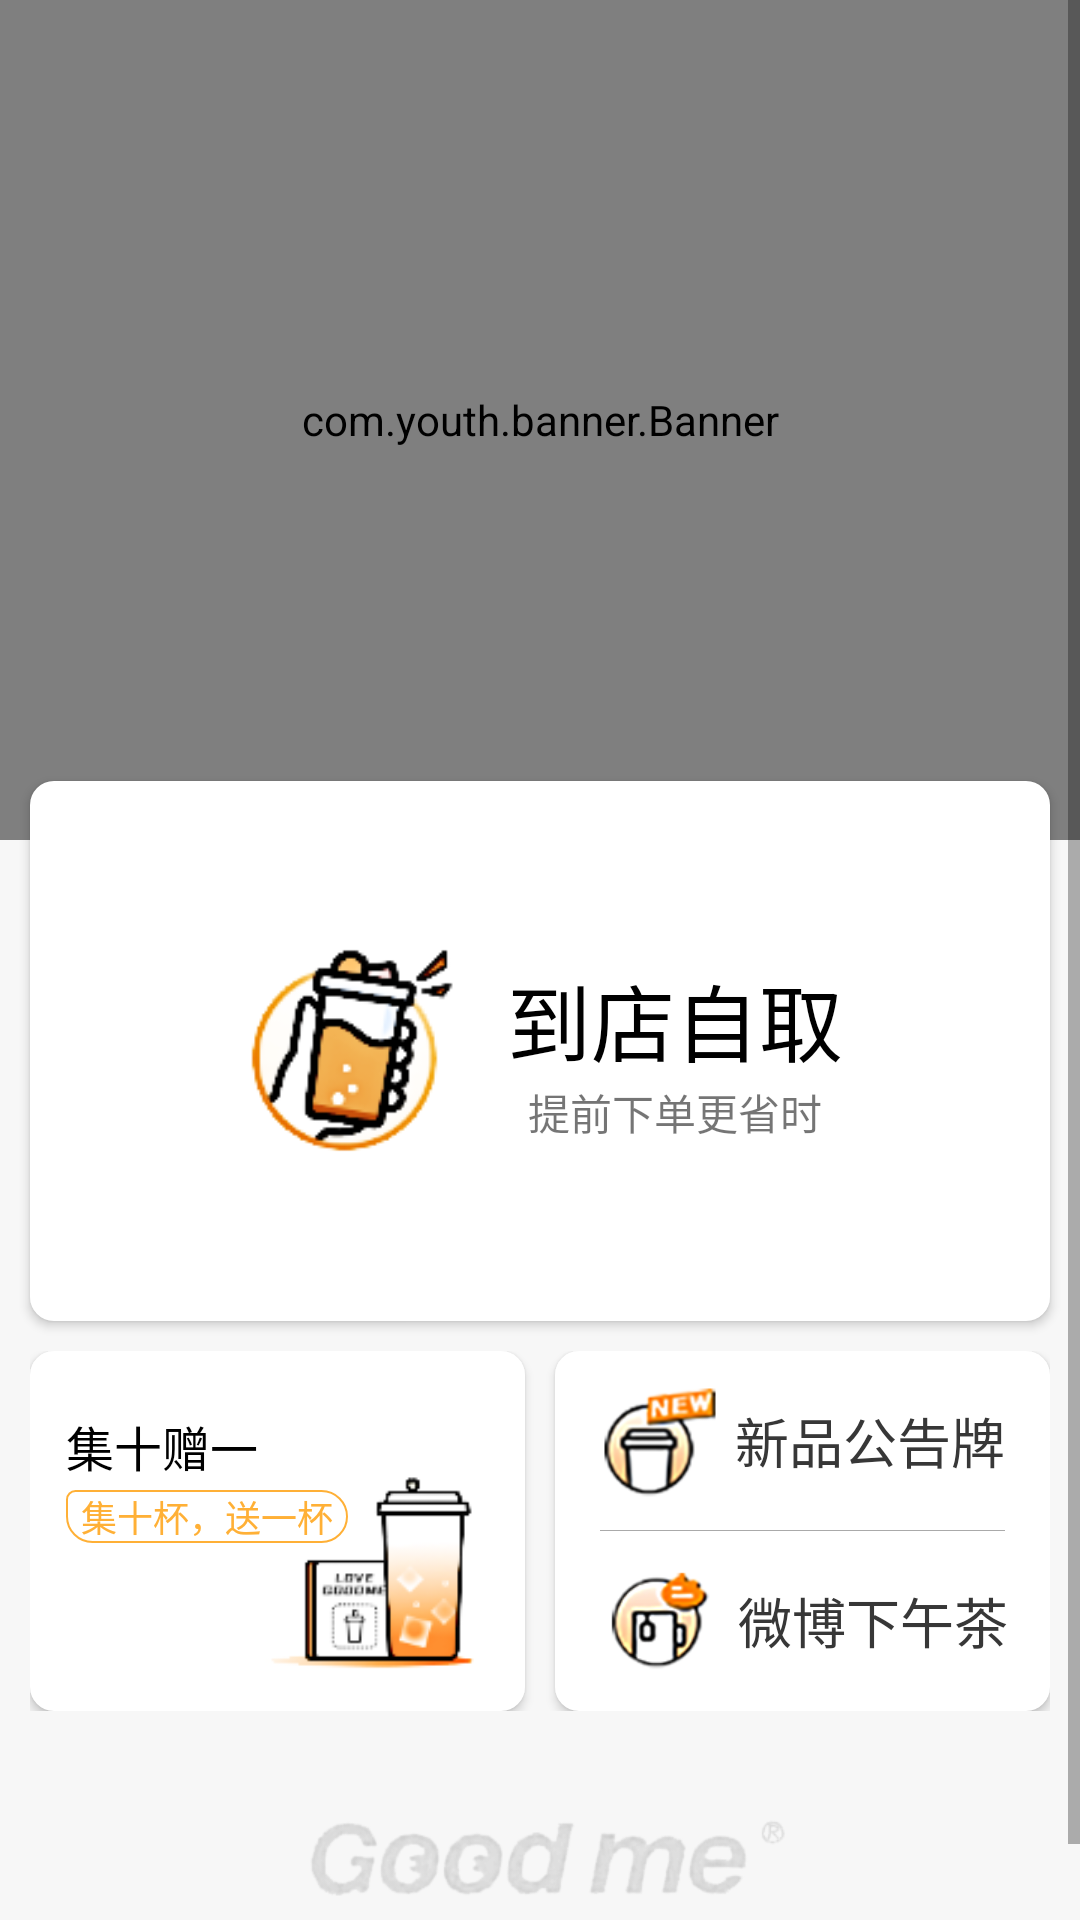

Icon bounding boxes for this 1080px x 1920px phone screenshot, format (x1, y1, x2, y2):
ziqu: (251, 950, 453, 1151)
